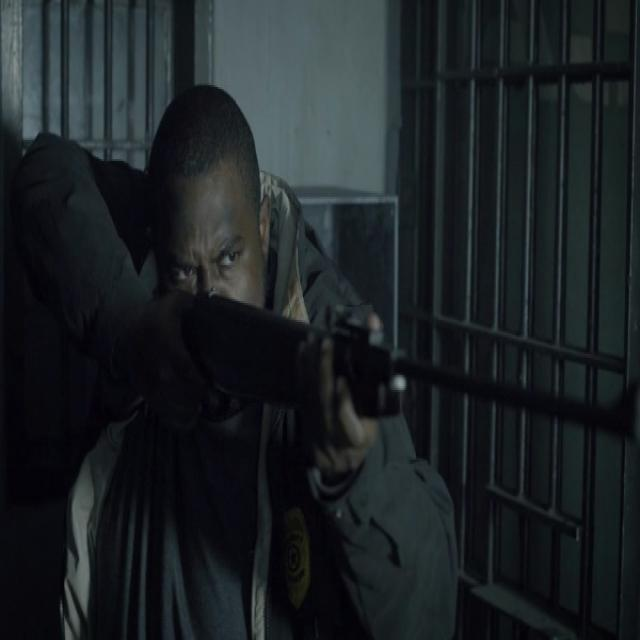rifle: (190, 293, 640, 449)
